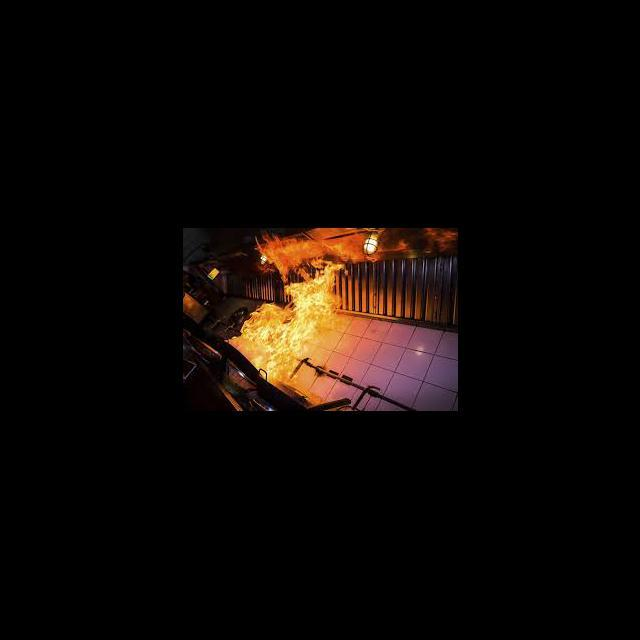Fire: (227, 241, 346, 380)
